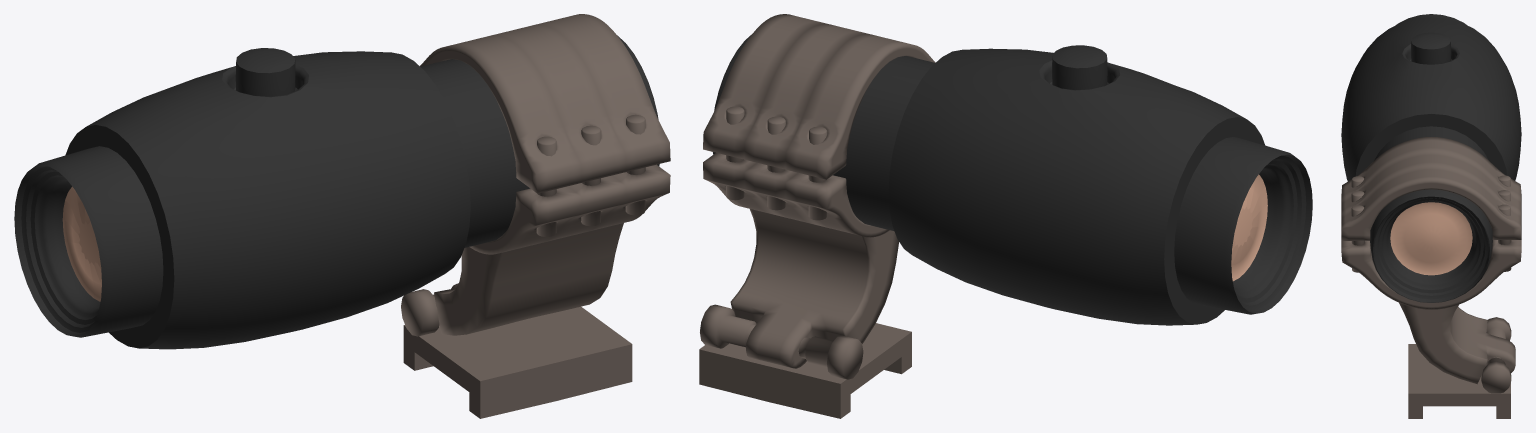
Rendered from scope_04.fbx.
3 renders of one model, left to right at view 1: azimuth 30°, elevation 25°; view 2: azimuth 150°, elevation 25°; view 3: azimuth 270°, elevation 25°, orthographic. The views are drawn at different scales.
Visible parts, largest first — view 1: Circle.145, Circle.146, AK47.021, Circle.147, Circle.148, Circle.149; view 2: Circle.145, Circle.146, Circle.147, AK47.021, Circle.149, Circle.148; view 3: Circle.145, Circle.146, Circle.147, AK47.021, Circle.149, Circle.148.
Part boxes in pixels (bbox=[...]): Circle.145: bbox=[14, 35, 659, 349]; Circle.146: bbox=[420, 14, 670, 254]; AK47.021: bbox=[403, 306, 632, 418]; Circle.147: bbox=[434, 223, 623, 335]; Circle.148: bbox=[536, 114, 645, 237]; Circle.149: bbox=[401, 289, 439, 336]; Circle.145: bbox=[713, 34, 1312, 325]; Circle.146: bbox=[703, 14, 935, 237]; Circle.147: bbox=[730, 209, 898, 368]; AK47.021: bbox=[699, 323, 911, 418]; Circle.149: bbox=[700, 304, 863, 379]; Circle.148: bbox=[726, 106, 827, 220]; Circle.145: bbox=[1341, 14, 1521, 302]; Circle.146: bbox=[1341, 137, 1521, 309]; Circle.147: bbox=[1399, 303, 1515, 384]; AK47.021: bbox=[1408, 344, 1510, 418]; Circle.149: bbox=[1481, 317, 1511, 393]; Circle.148: bbox=[1351, 175, 1511, 272].
Size of the model in its own units: 41.71 by 28.43 by 17.44.
